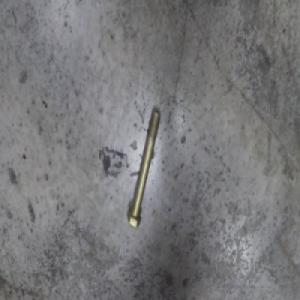Bolt: (126, 110, 161, 227)
